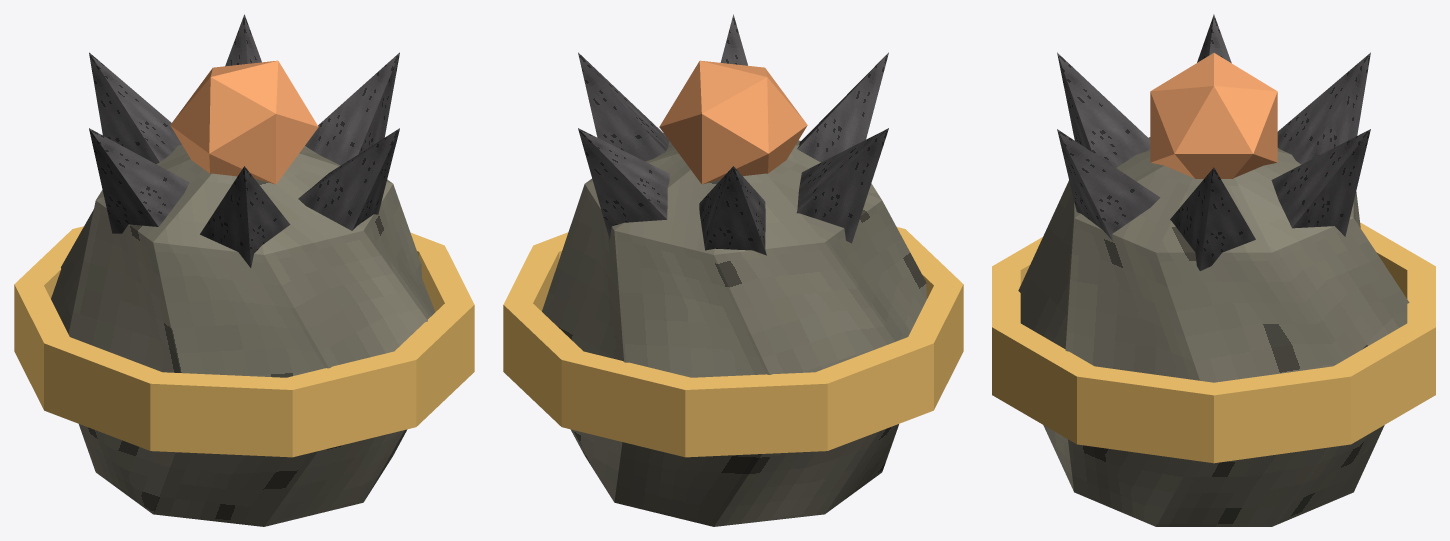
The model's file is proj_flak.gltf.
3 views of the same model, side by side, from view 1: azimuth 30°, elevation 25°; view 2: azimuth 150°, elevation 25°; view 3: azimuth 270°, elevation 25° (orthographic).
Parts seen in each view (by area): view 1: body, glow; view 2: body, glow; view 3: body, glow.
Boxes of the visible parts, x1,y1,x2,y2 form: body: [51, 14, 435, 526]; glow: [14, 60, 474, 457]; body: [542, 14, 926, 526]; glow: [503, 60, 963, 457]; body: [1018, 14, 1409, 526]; glow: [992, 53, 1435, 463].
Size of the model in its own units: 0.218 by 0.2348 by 0.2073.
Materials: 2 (1 with a texture image).
